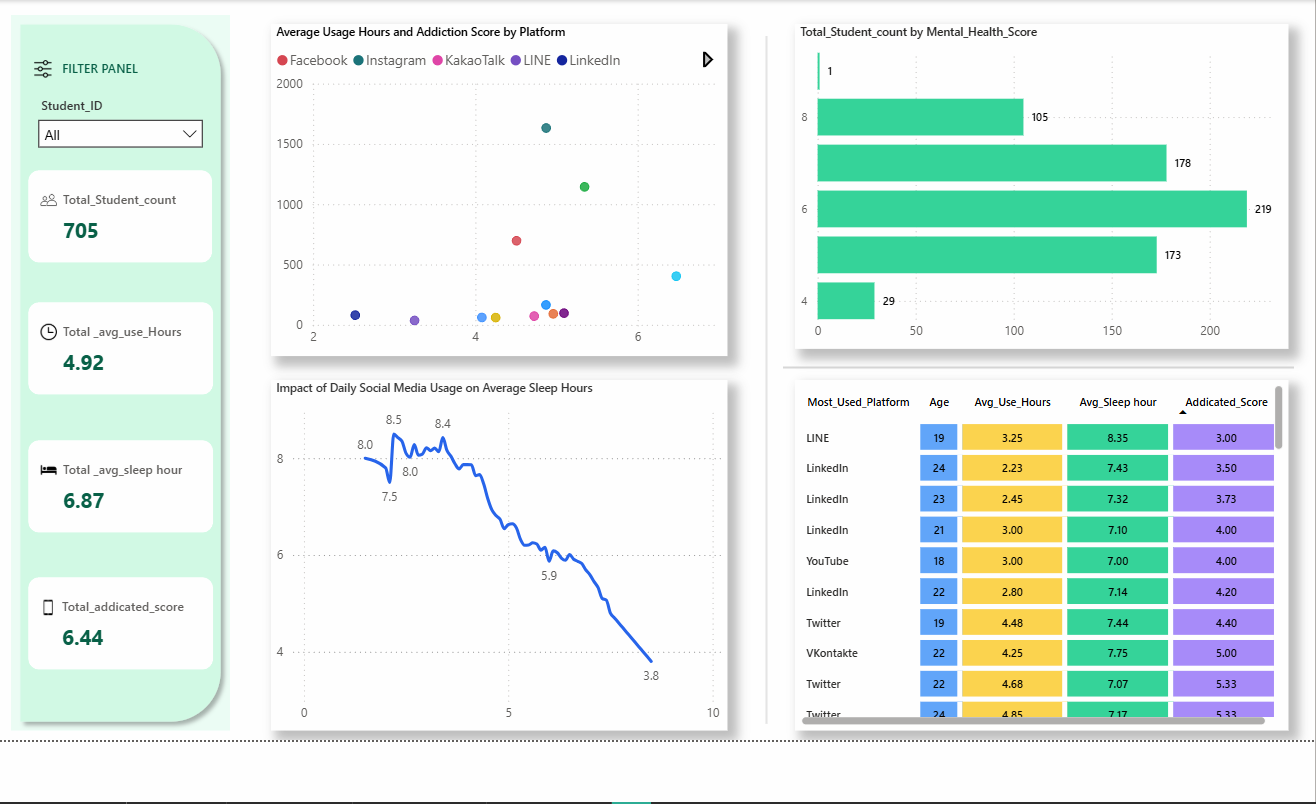

What the dashboard file says about the page in this screenshot:
{"tool":"powerbi","page":{"name":"Addiction Impact","canvas":[1280,720],"ordinal":2},"visuals":[{"type":"scatterChart","title":"Average Usage Hours and Addiction Score by Platform","fields":{"X":["social_media_addication ssma.Total _avg_use_Hours"],"Y":["Sum(social_media_addication ssma.Addicted_Score)"],"Series":["social_media_addication ssma.Most_Used_Platform"]},"box":[264.6,23.3,444.5,322.9],"z":0},{"type":"lineChart","title":"Impact of Daily Social Media Usage on Average Sleep Hours","fields":{"Category":["social_media_addication ssma.Avg_Daily_Usage_Hours"],"Y":["social_media_addication ssma.Total _avg_sleep hour"]},"box":[264.6,369.6,444.5,341.4],"z":1000},{"type":"clusteredBarChart","fields":{"Category":["social_media_addication ssma.Mental_Health_Score"],"Y":["social_media_addication ssma.Total_Student_count"]},"box":[774.2,23.3,480.5,316.1],"z":2000},{"type":"tableEx","fields":{"Values":["social_media_addication ssma.Most_Used_Platform","social_media_addication ssma.Age (groups)","social_media_addication ssma.Total _avg_use_Hours","social_media_addication ssma.Total _avg_sleep hour","social_media_addication ssma.Toatal_addicated_score"]},"box":[774.2,369.6,479.5,341.4],"z":3000},{"type":"shape","box":[11.7,14.6,213,696.4],"z":4000},{"type":"cardVisual","fields":{"Data":["social_media_addication ssma.Total_Student_count"]},"box":[23.3,160.5,189.7,100.2],"z":5000},{"type":"image","box":[29.2,53.5,27.2,27.2],"z":6000},{"type":"textbox","box":[56.4,51.6,108,29.2],"z":7000},{"type":"cardVisual","fields":{"Data":["social_media_addication ssma.Total _avg_use_Hours"]},"box":[23.3,288.9,190.6,100.2],"z":8000},{"type":"cardVisual","fields":{"Data":["social_media_addication ssma.Total _avg_sleep hour"]},"box":[23.3,423.1,190.6,100.2],"z":9000},{"type":"cardVisual","fields":{"Data":["social_media_addication ssma.Toatal_addicated_score"]},"box":[23.3,556.4,190.6,100.2],"z":10000},{"type":"shape","box":[762.6,352.1,497,10.7],"z":11000},{"type":"slicer","fields":{"Values":["social_media_addication ssma.Student_ID"]},"box":[28.2,88.5,179.9,60.3],"z":12000},{"type":"shape","box":[739.2,35,14.6,669.2],"z":13000}]}

Visuals, with their boxes on the page's 1280x720 design canvas (x1, y1, x2, y2). These are canvas units, not pixel positions in the 1316x804 screenshot, which may show the page scaled, cropped or inside an application window:
"Average Usage Hours and Addiction Score by Platform" scatterChart: 265,23,709,346
"Impact of Daily Social Media Usage on Average Sleep Hours" lineChart: 265,370,709,711
clusteredBarChart - social_media_addication ssma.Mental_Health_Score x social_media_addication ssma.Total_Student_count: 774,23,1255,339
tableEx - social_media_addication ssma.Most_Used_Platform x social_media_addication ssma.Age (groups): 774,370,1254,711
shape: 12,15,225,711
cardVisual - social_media_addication ssma.Total_Student_count: 23,160,213,261
image: 29,54,56,81
textbox: 56,52,164,81
cardVisual - social_media_addication ssma.Total _avg_use_Hours: 23,289,214,389
cardVisual - social_media_addication ssma.Total _avg_sleep hour: 23,423,214,523
cardVisual - social_media_addication ssma.Toatal_addicated_score: 23,556,214,657
shape: 763,352,1260,363
slicer - social_media_addication ssma.Student_ID: 28,88,208,149
shape: 739,35,754,704
